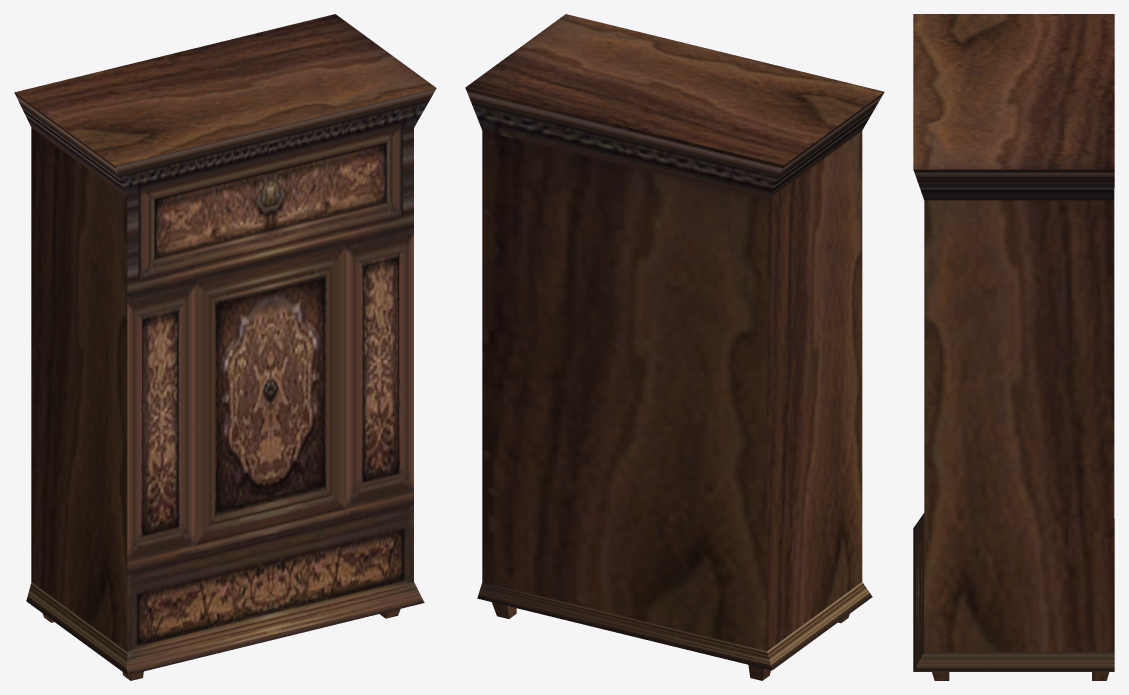
File: Armoire.glb
The picture shows the model from 3 angles, left to right: view 1: azimuth 30°, elevation 25°; view 2: azimuth 150°, elevation 25°; view 3: azimuth 270°, elevation 25°; orthographic projection.
Visible parts, largest first — view 1: _Armoire; view 2: _Armoire; view 3: _Armoire.
Boxes of the visible parts, x1,y1,x2,y2 form: _Armoire: [14, 14, 436, 680]; _Armoire: [465, 14, 884, 680]; _Armoire: [913, 14, 1114, 680].
Size of the model in its own units: 2.02 by 3.18 by 1.1.
1 material, 1 textured.
